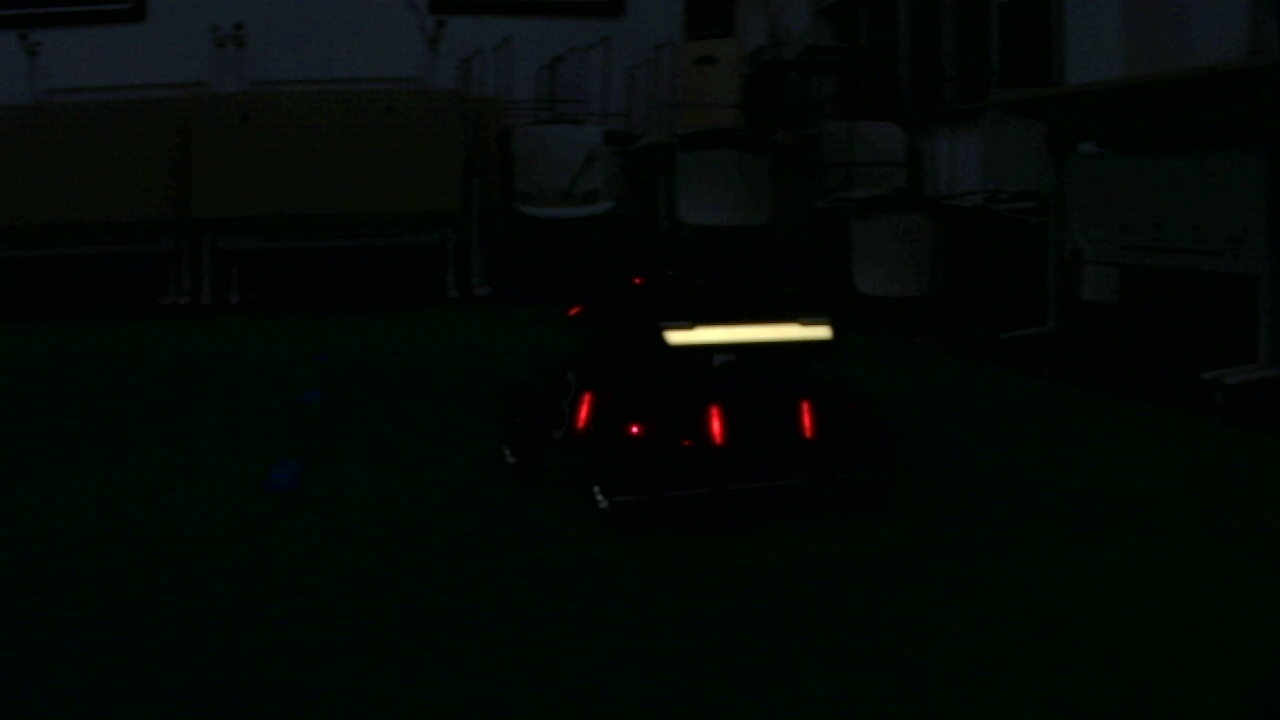lamp: (710, 395, 727, 448), (573, 390, 593, 428), (800, 392, 813, 450)
notpair1: (571, 392, 726, 448)
pair1: (707, 397, 816, 451)
